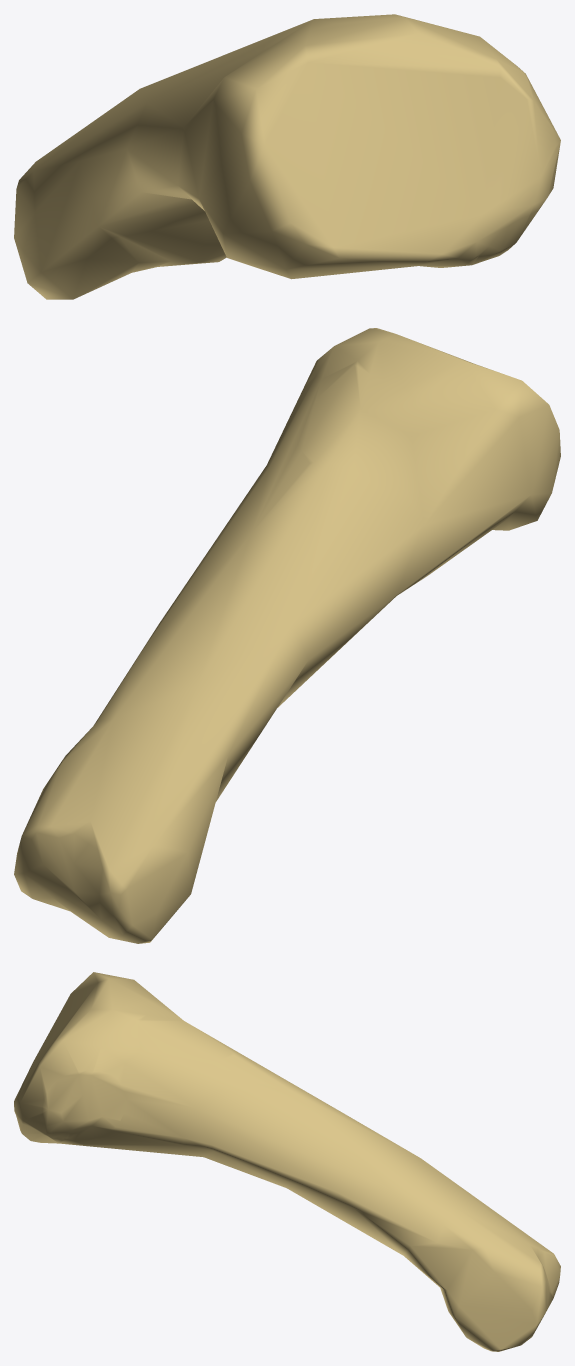
3 views of the same model, one above another, from view 1: azimuth 30°, elevation 25°; view 2: azimuth 150°, elevation 25°; view 3: azimuth 270°, elevation 25° (orthographic). The views are drawn at different scales.
Parts seen in each view (by area): view 1: 右侧第五指近节指骨; view 2: 右侧第五指近节指骨; view 3: 右侧第五指近节指骨.
Part boxes in pixels (x1,y1,x2,y2): 右侧第五指近节指骨: [14, 14, 560, 299]; 右侧第五指近节指骨: [14, 328, 560, 943]; 右侧第五指近节指骨: [14, 972, 560, 1351].
Bounding box in the file's own units: 0.0219 × 0.0319 × 0.0498.
